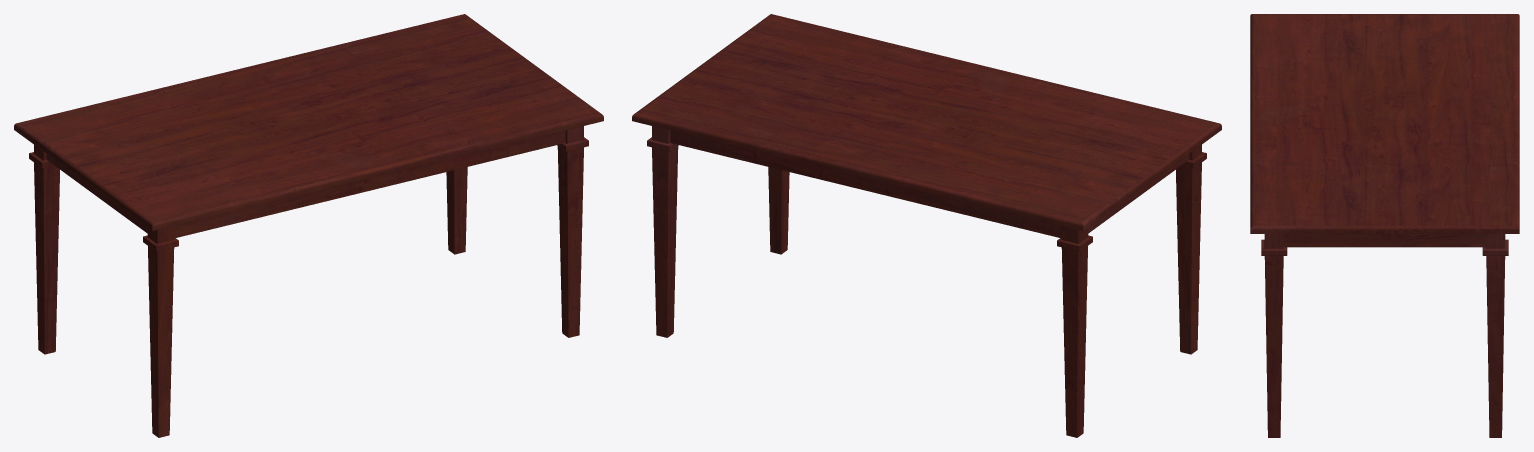
3 renders of one model, left to right at view 1: azimuth 30°, elevation 25°; view 2: azimuth 150°, elevation 25°; view 3: azimuth 270°, elevation 25°, orthographic. The views are drawn at different scales.
Parts seen in each view (by area): view 1: F01-01BS106; view 2: F01-01BS106; view 3: F01-01BS106.
Part boxes in pixels (bbox=[...]): F01-01BS106: bbox=[14, 14, 603, 437]; F01-01BS106: bbox=[632, 14, 1221, 437]; F01-01BS106: bbox=[1250, 14, 1519, 437].
Size of the model in its own units: 160 by 76 by 85.
1 material, 1 textured.
